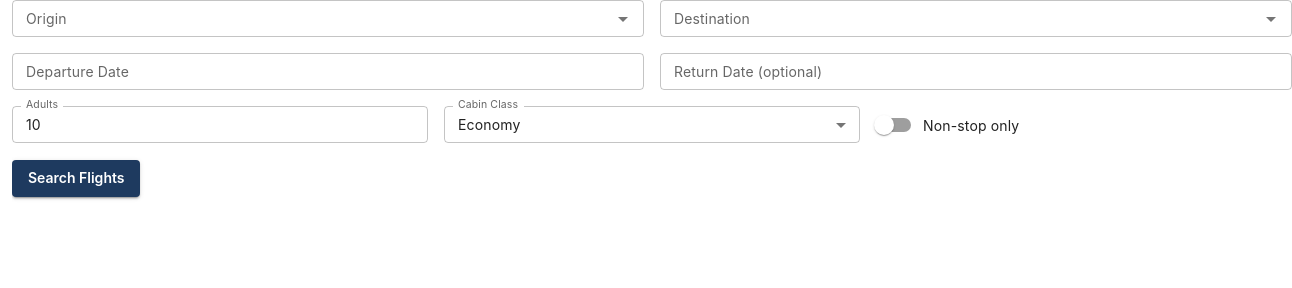
Scenario: SearchForm › REQ-SEARCH-FORM-S03: rejects adults above maximum (10)
The width and height of the screenshot is (1292, 288).
Click the button "Search Flights" at {"x": 76, "y": 179}, box [12,160,140,197]
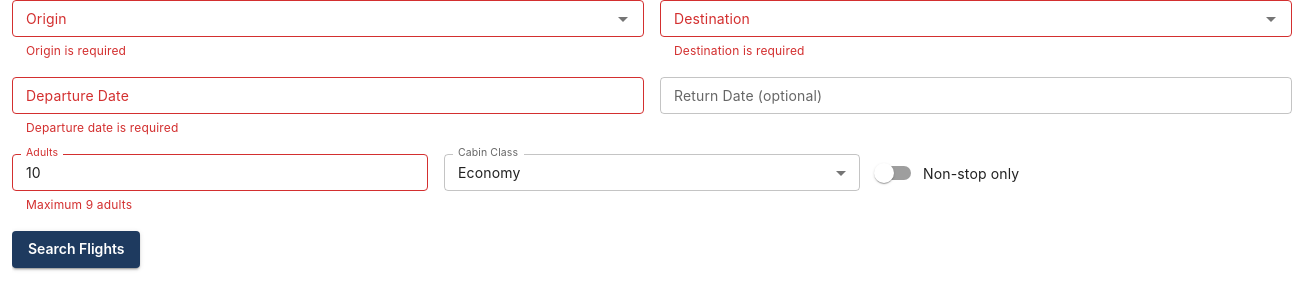
Expected: the text "Maximum 9 adults" is shown, [26,197,132,212]
